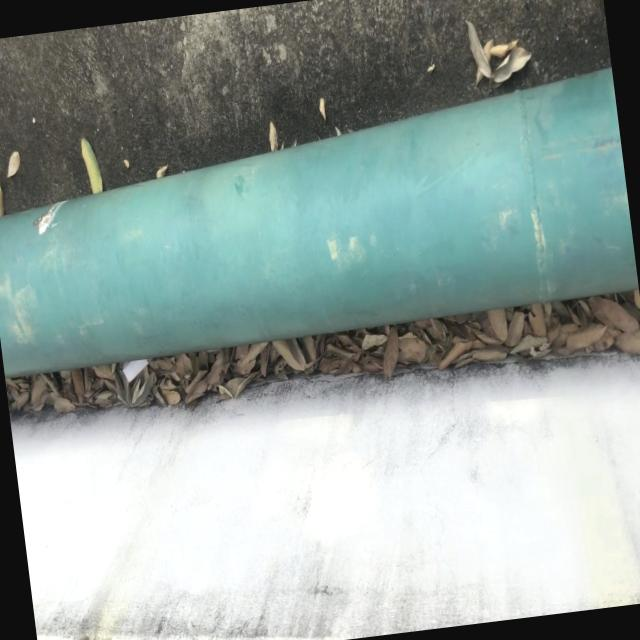gas: (0, 63, 640, 380)
